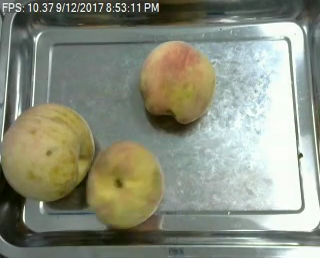Peach: (1, 101, 94, 202), (85, 139, 163, 229), (138, 38, 216, 124)
